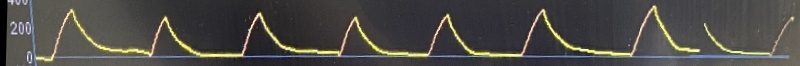normal_volume: (42, 4, 706, 66)
